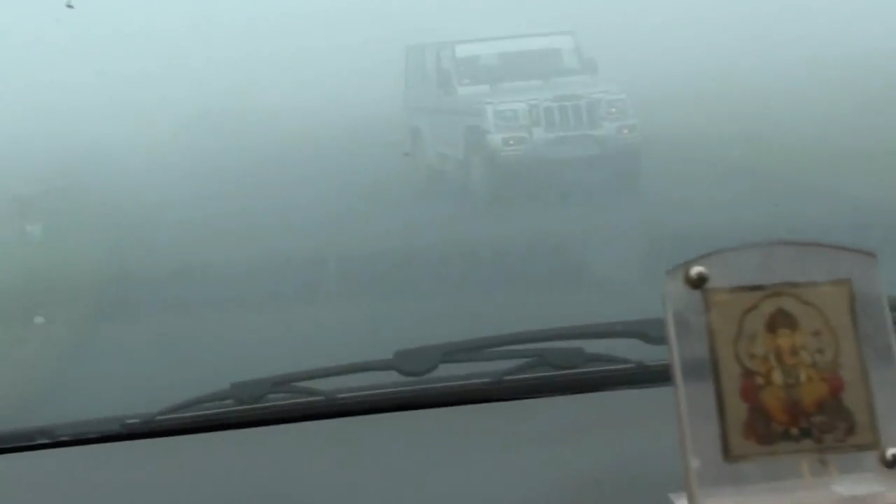car: (401, 28, 644, 203)
